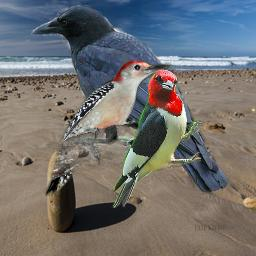Crow: (31, 5, 230, 199)
Woodpecker: (45, 59, 172, 196), (109, 68, 201, 208)
